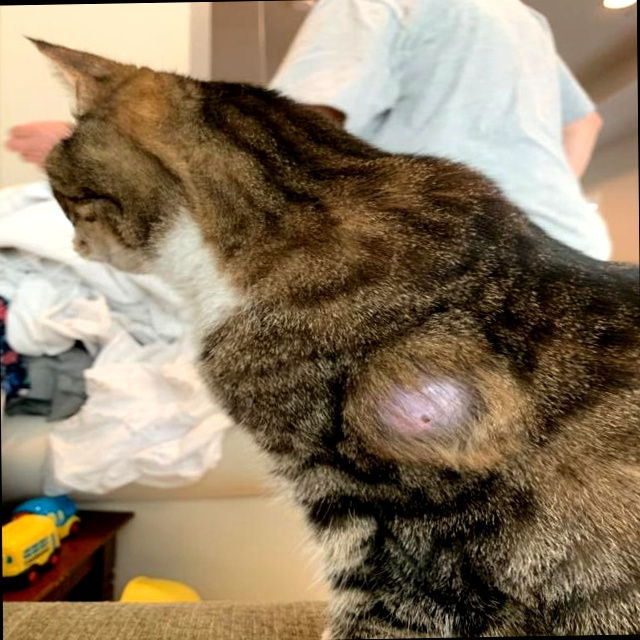lump_and_bump: (374, 369, 482, 443)
